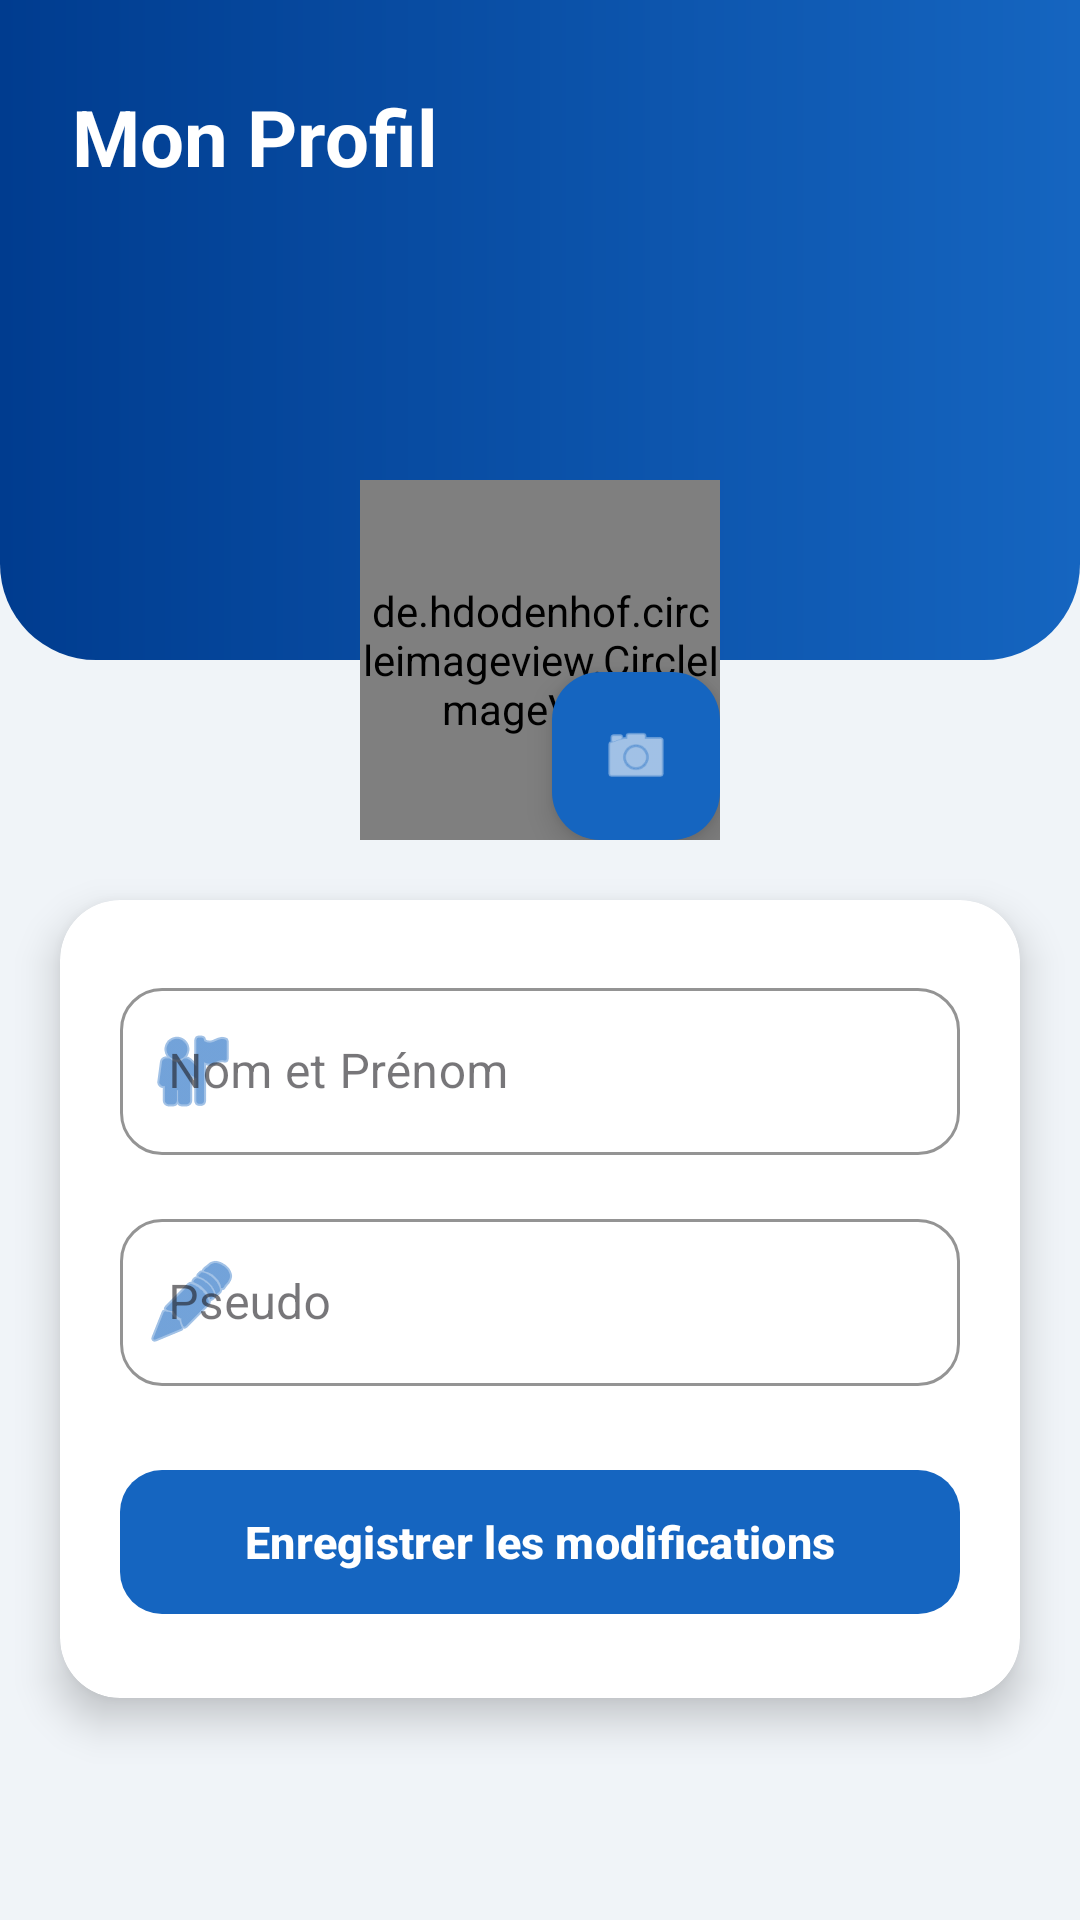

Named icons in this screenshot (1080 × 1920) and their centers, (x=x, y=y):
camera: (x=636, y=756)
